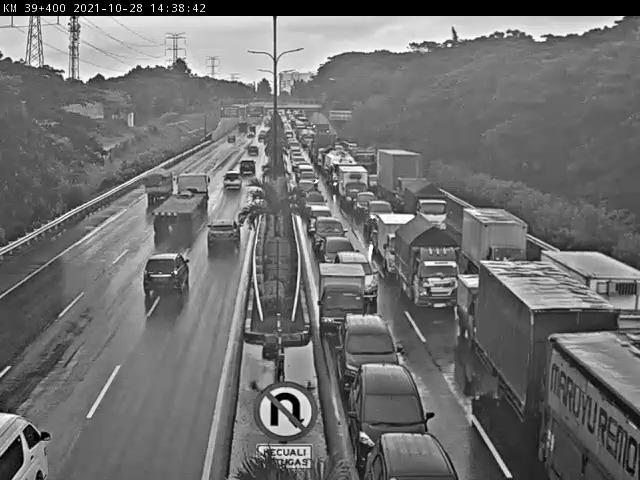big truck: (477, 258, 618, 446), (378, 148, 424, 210)
car: (350, 361, 435, 457), (334, 313, 405, 398), (360, 432, 459, 480), (152, 171, 209, 236), (143, 251, 190, 298), (337, 251, 380, 301), (311, 216, 348, 254), (321, 236, 359, 272), (207, 219, 240, 252), (366, 200, 395, 234), (306, 205, 335, 236), (300, 187, 327, 220), (355, 191, 375, 217), (220, 171, 244, 191), (238, 157, 258, 177)
small truck: (392, 214, 461, 311), (460, 205, 526, 284), (457, 276, 510, 350), (316, 263, 366, 337), (401, 176, 448, 232), (380, 213, 419, 275), (339, 164, 370, 206), (143, 166, 174, 201)
